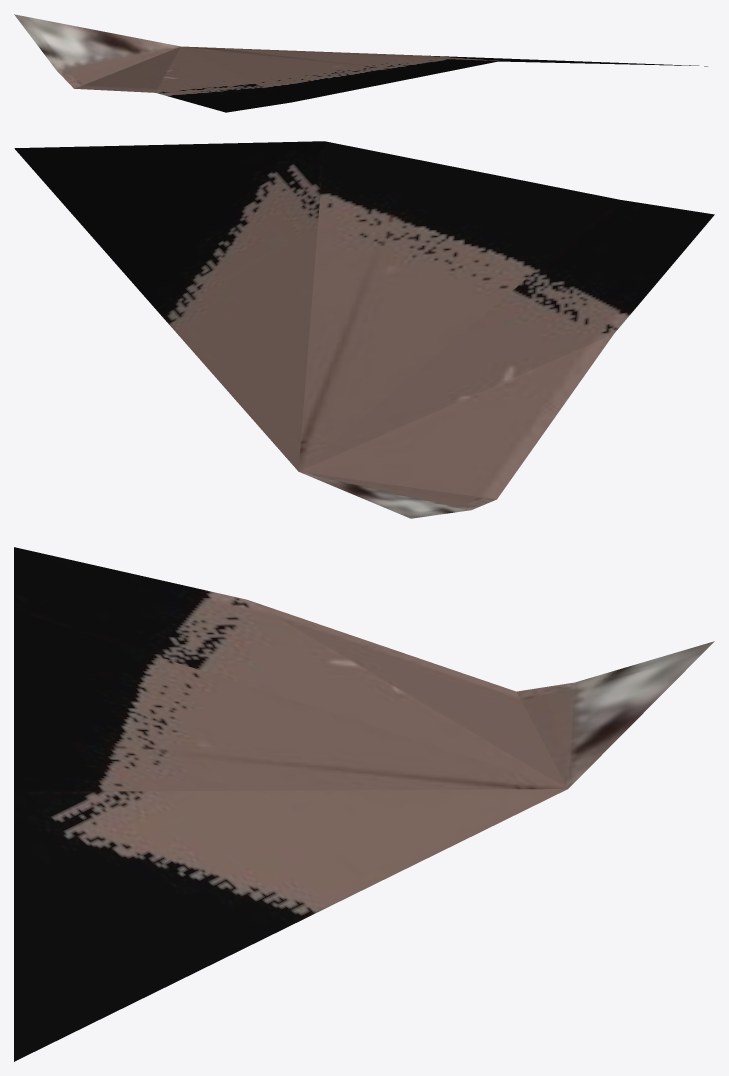
The picture shows the model from 3 angles, top to bottom: view 1: azimuth 30°, elevation 25°; view 2: azimuth 150°, elevation 25°; view 3: azimuth 270°, elevation 25°; orthographic projection. The views are drawn at different scales.
Size of the model in its own units: 1.42 by 0.2419 by 1.06.
Materials: 1 (1 with a texture image).
